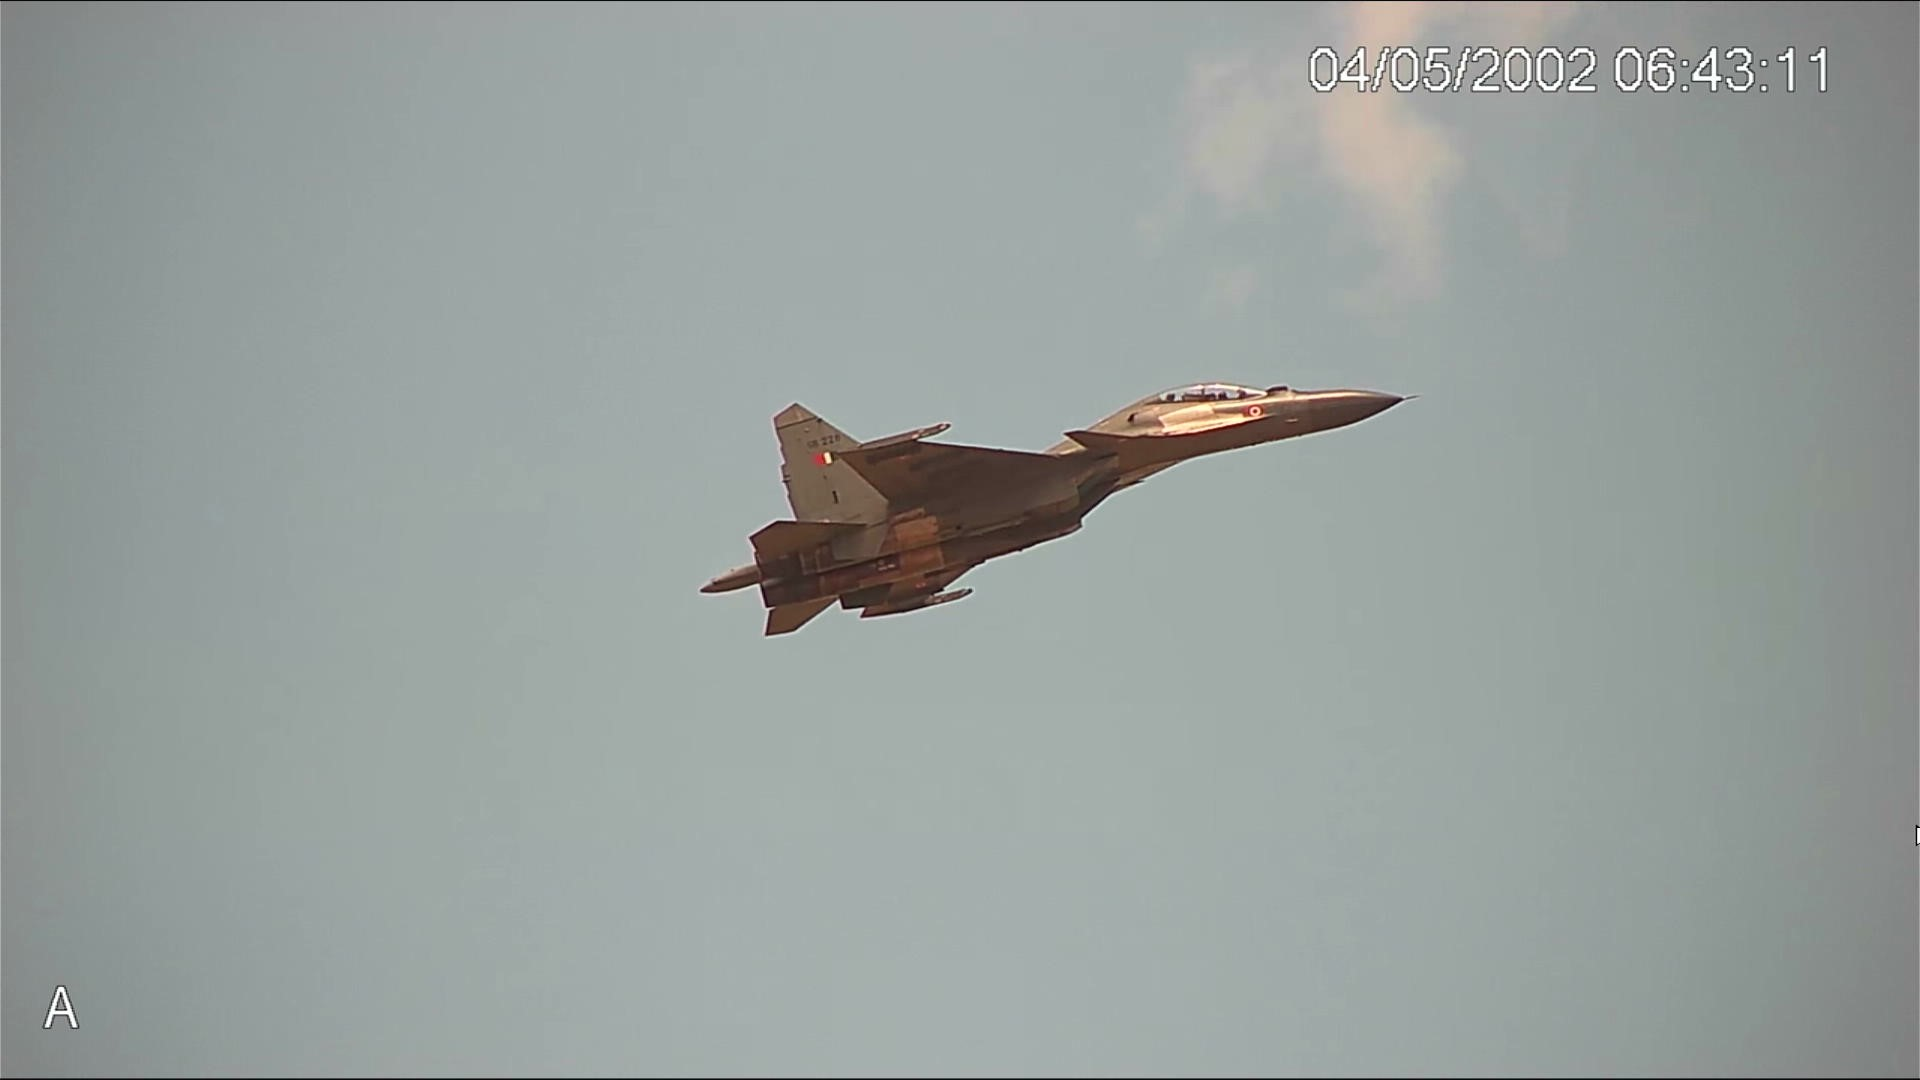SU_30: (698, 377, 1427, 641)
